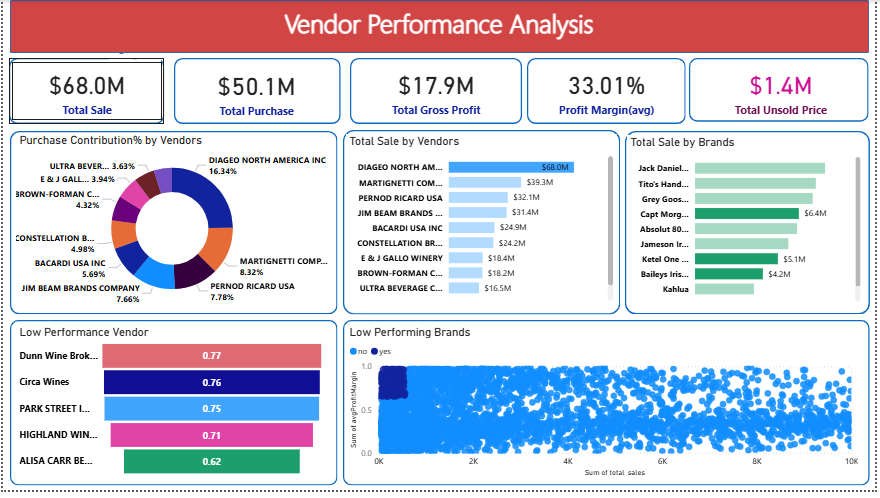

Layout of this report page (visuals, bound fields, positions):
{"tool":"powerbi","page":{"name":"Page 1","canvas":[1280,720],"ordinal":0},"visuals":[{"type":"group","id":"g1","title":"Group 1","box":[8.2,85.4,228.4,96.9],"z":0},{"type":"shape","box":[8.2,85.4,228.4,96.9],"z":0,"group":"g2"},{"type":"shape","box":[251.4,85.4,245,96.9],"z":0,"group":"g4"},{"type":"shape","box":[509.4,85.4,253,96.9],"z":0,"group":"g3"},{"type":"shape","box":[770.6,85.4,233.3,96.9],"z":0,"group":"g6"},{"type":"shape","box":[1008.1,85.6,263.8,93.5],"z":0,"group":"g7"},{"type":"group","id":"g2","title":"Group 2","box":[8.2,85.4,228.4,96.9],"z":5,"group":"g1"},{"type":"group","id":"g3","title":"Group 2","box":[509.4,85.4,253,96.9],"z":5,"group":"g5"},{"type":"group","id":"g4","title":"Group 1","box":[251.4,85.4,239.9,96.9],"z":1000},{"type":"card","fields":{"Values":["Sum(vendor_summary_data.orignal_unsold_price)"]},"box":[1013,85.4,261.3,95.3],"z":1000,"group":"g7"},{"type":"card","fields":{"Values":["Sum(vendor_summary_data.total_sale_dollar)"]},"box":[12.7,92,220.8,83.8],"z":1000,"group":"g2"},{"type":"card","fields":{"Values":["Sum(vendor_summary_data.gross_profit)"]},"box":[514.4,92,244.7,83.8],"z":1000,"group":"g3"},{"type":"card","fields":{"Values":["Avg(vendor_summary_data.margin)"]},"box":[775.2,92,225.6,83.8],"z":1000,"group":"g6"},{"type":"card","fields":{"Values":["Sum(vendor_summary_data.total_dollar_purchase)"]},"box":[254.6,93.3,236.9,83.8],"z":1000,"group":"g4"},{"type":"group","id":"g5","title":"Group 1","box":[509.4,85.4,253,96.9],"z":2000},{"type":"group","id":"g6","title":"Group 2","box":[770.6,85.4,233.3,96.9],"z":3000},{"type":"group","id":"g7","title":"Group 2","box":[1008.1,85.4,266.2,95.3],"z":4000},{"type":"shape","box":[9.9,192.2,481.4,269.5],"z":5000},{"type":"donutChart","title":"Purchase Contribution% by Vendors","fields":{"Category":["purchaseContribution.VendorName"],"Y":["Sum(purchaseContribution.purchseContribution%)"]},"box":[19.7,195.5,458.4,261.3],"z":6000},{"type":"shape","box":[499.5,190.6,407.5,271.1],"z":7000},{"type":"barChart","title":"Total Sale by Vendors","fields":{"Category":["vendor_summary_data.VendorName"],"Y":["Sum(vendor_summary_data.total_sale_dollar)"]},"box":[504.4,197.2,397.6,249.8],"z":8000},{"type":"shape","box":[913.6,192.2,359.8,269.5],"z":9000},{"type":"barChart","title":"Total Sale by Brands","fields":{"Category":["vendor_summary_data.Description"],"Y":["Sum(vendor_summary_data.total_sale_dollar)"]},"box":[916.9,198.8,348.3,249.8],"z":10000},{"type":"shape","box":[9.9,469.9,481.4,243.2],"z":11000},{"type":"shape","box":[10.3,0,1262.2,77.9],"z":12000},{"type":"funnel","title":"Low Performance Vendor","fields":{"Category":["lowTurnOver.VendorName"],"Y":["Sum(lowTurnOver.Avg_Stock_TurnOver)"]},"box":[19.7,478.2,458.4,226.8],"z":13000},{"type":"shape","box":[499.5,469.9,773.9,243.2],"z":14000},{"type":"scatterChart","title":"Low Performing Brands","fields":{"Category":["brandperformance.Description"],"X":["Sum(brandperformance.total_sales)"],"Y":["Sum(brandperformance.avgProfitMargin)"],"Series":["brandperformance.TargetBrand"]},"box":[504.4,478.2,757.5,226.8],"z":15000},{"type":"textbox","box":[408.5,2.9,483.4,67.6],"z":16000}]}

Visuals, with their boxes in screenshot pixels (x1, y1, x2, y2), scaled from the page's 1280x720 canvas onto the 880x498 screenshot:
"Group 1" group: crop(6, 59, 163, 126)
shape: crop(6, 59, 163, 126)
shape: crop(173, 59, 341, 126)
shape: crop(350, 59, 524, 126)
shape: crop(530, 59, 690, 126)
shape: crop(693, 59, 874, 124)
"Group 2" group: crop(6, 59, 163, 126)
"Group 2" group: crop(350, 59, 524, 126)
"Group 1" group: crop(173, 59, 338, 126)
card - Sum(vendor_summary_data.orignal_unsold_price): crop(696, 59, 876, 125)
card - Sum(vendor_summary_data.total_sale_dollar): crop(9, 64, 161, 122)
card - Sum(vendor_summary_data.gross_profit): crop(354, 64, 522, 122)
card - Avg(vendor_summary_data.margin): crop(533, 64, 688, 122)
card - Sum(vendor_summary_data.total_dollar_purchase): crop(175, 65, 338, 122)
"Group 1" group: crop(350, 59, 524, 126)
"Group 2" group: crop(530, 59, 690, 126)
"Group 2" group: crop(693, 59, 876, 125)
shape: crop(7, 133, 338, 319)
"Purchase Contribution% by Vendors" donutChart: crop(14, 135, 329, 316)
shape: crop(343, 132, 624, 319)
"Total Sale by Vendors" barChart: crop(347, 136, 620, 309)
shape: crop(628, 133, 875, 319)
"Total Sale by Brands" barChart: crop(630, 138, 870, 310)
shape: crop(7, 325, 338, 493)
shape: crop(7, 0, 875, 54)
"Low Performance Vendor" funnel: crop(14, 331, 329, 488)
shape: crop(343, 325, 875, 493)
"Low Performing Brands" scatterChart: crop(347, 331, 868, 488)
textbox: crop(281, 2, 613, 49)
